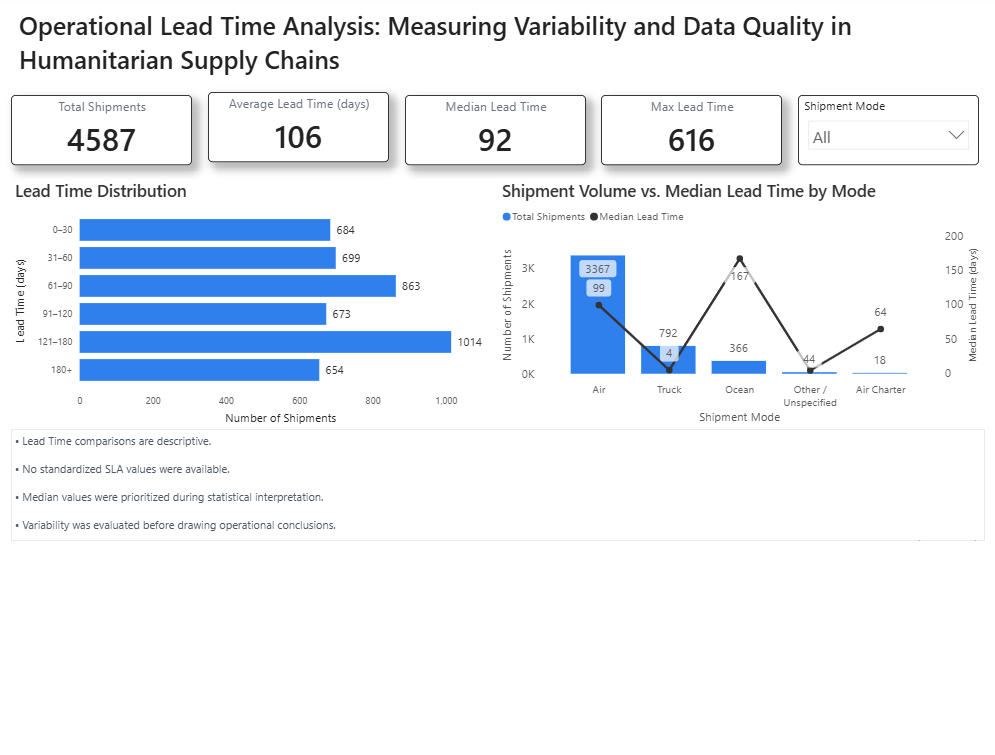

This screenshot's page, from the dashboard's own definition file:
{"tool":"powerbi","page":{"name":"Executive Summary","canvas":[1280,720],"ordinal":0},"visuals":[{"type":"clusteredBarChart","title":"Lead Time Distribution","fields":{"Y":["CountNonNull(shipments_lead_time_dataset_full.ID)"],"Category":["shipments_lead_time_dataset_full.lead_time_bucket"]},"box":[16,240,624,320],"z":0},{"type":"textbox","box":[20,15,1248,96],"z":1000},{"type":"card","title":"Total Shipments","fields":{"Values":["shipments_lead_time_dataset_full.Total Shipments"]},"box":[16,132,232,90],"z":2000},{"type":"card","title":"Average Lead Time (days)","fields":{"Values":["shipments_lead_time_dataset_full.Avg Lead Time"]},"box":[268,128,232,90],"z":3000},{"type":"card","title":"Median Lead Time","fields":{"Values":["shipments_lead_time_dataset_full.Median Lead Time"]},"box":[520,132,232,90],"z":4000},{"type":"card","title":"Max Lead Time","fields":{"Values":["shipments_lead_time_dataset_full.Max Lead Time"]},"box":[772,132,232,90],"z":5000},{"type":"slicer","title":"Shipment Mode","fields":{"Values":["shipments_lead_time_dataset_full.Shipment_Mode"]},"box":[1024,132,232,90],"z":6000},{"type":"textbox","box":[16,560,1248,144],"z":7000},{"type":"lineClusteredColumnComboChart","title":"Shipment Volume vs. Median Lead Time by Mode","fields":{"Category":["shipments_lead_time_dataset_full.Shipment Mode"],"Y":["shipments_lead_time_dataset_full.Total Shipments"],"Y2":["shipments_lead_time_dataset_full.Median Lead Time"]},"box":[640,240,624,320],"z":8000}]}

Visuals, with their boxes on the page's 1280x720 design canvas (x1, y1, x2, y2). These are canvas units, not pixel positions in the 995x755 screenshot, which may show the page scaled, cropped or inside an application window:
"Lead Time Distribution" clusteredBarChart: 16/240/640/560
textbox: 20/15/1268/111
"Total Shipments" card: 16/132/248/222
"Average Lead Time (days)" card: 268/128/500/218
"Median Lead Time" card: 520/132/752/222
"Max Lead Time" card: 772/132/1004/222
"Shipment Mode" slicer: 1024/132/1256/222
textbox: 16/560/1264/704
"Shipment Volume vs. Median Lead Time by Mode" lineClusteredColumnComboChart: 640/240/1264/560
